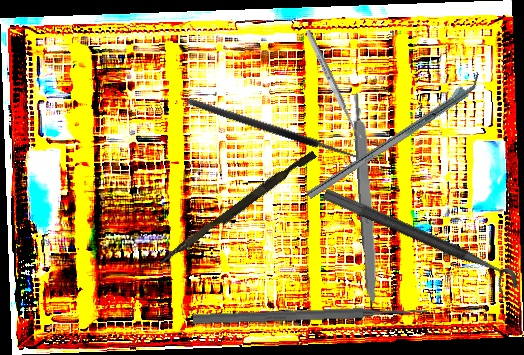Fixation Ring: (314, 186, 524, 304)
Handpiece: (361, 78, 477, 164)
Hook Surgical: (185, 88, 378, 166)
Pusher: (158, 146, 317, 271), (192, 303, 428, 328)
Scalpel Handle: (351, 90, 382, 311)
Spatula Surgical: (302, 71, 486, 200)
Surgical Spoon: (304, 28, 362, 142)
